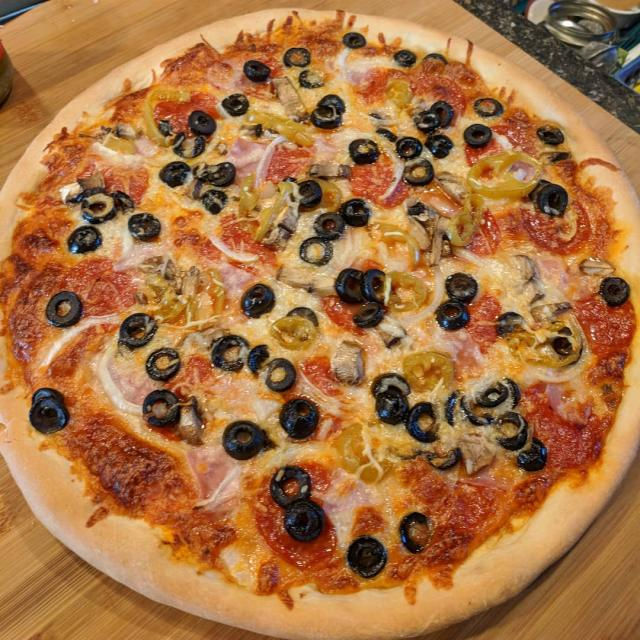black_olives: (442, 381, 523, 426), (336, 264, 390, 329), (494, 411, 546, 471), (195, 152, 240, 217), (314, 196, 371, 244), (420, 96, 459, 156), (280, 495, 324, 545), (210, 327, 253, 378), (27, 385, 70, 435), (272, 392, 318, 438), (222, 416, 264, 462), (249, 342, 290, 388), (348, 532, 387, 579), (375, 368, 408, 422), (141, 385, 178, 433), (269, 460, 308, 505), (48, 288, 85, 334), (124, 202, 162, 246), (394, 134, 430, 180), (120, 309, 157, 352), (399, 508, 432, 552), (80, 182, 118, 220), (140, 346, 178, 383), (406, 399, 441, 437), (165, 124, 202, 158), (437, 298, 468, 338), (530, 176, 563, 212), (311, 92, 345, 126), (241, 281, 271, 319), (396, 48, 445, 71), (68, 224, 98, 259), (425, 446, 463, 472), (445, 273, 481, 300), (302, 235, 334, 263), (158, 159, 187, 189), (293, 177, 325, 204), (473, 92, 506, 118), (599, 274, 628, 303), (464, 118, 493, 146), (283, 41, 312, 67), (242, 56, 270, 82), (223, 91, 251, 116), (538, 120, 564, 146), (190, 110, 214, 138), (339, 29, 366, 52), (350, 135, 372, 163), (302, 67, 324, 88)
peppers: (372, 219, 429, 316), (504, 316, 584, 372), (150, 272, 224, 327), (466, 150, 543, 194), (248, 180, 289, 256), (340, 424, 395, 477), (139, 80, 182, 147), (242, 103, 306, 145), (440, 190, 488, 244), (407, 349, 462, 392), (377, 79, 417, 120), (272, 316, 318, 349)
pizza: (0, 11, 640, 640)
